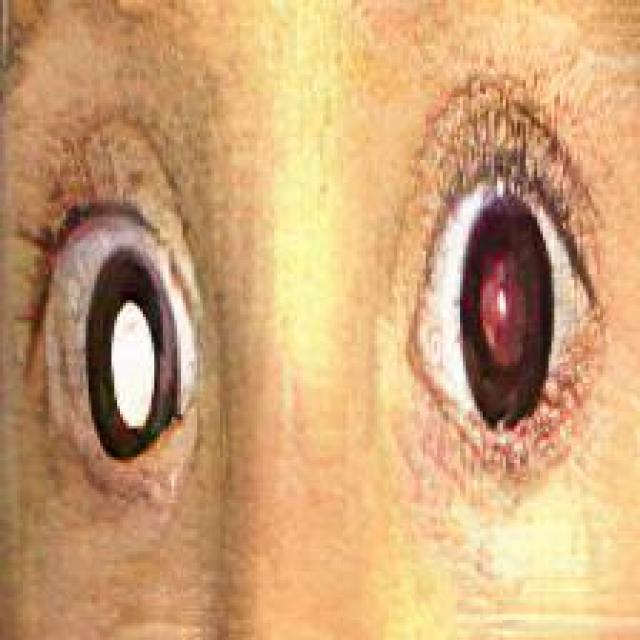reflexo-alterado: (42, 198, 202, 497)
reflexo-normal: (394, 134, 615, 475)
